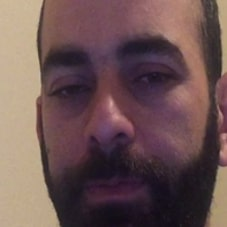drowsy: (39, 31, 195, 217)
